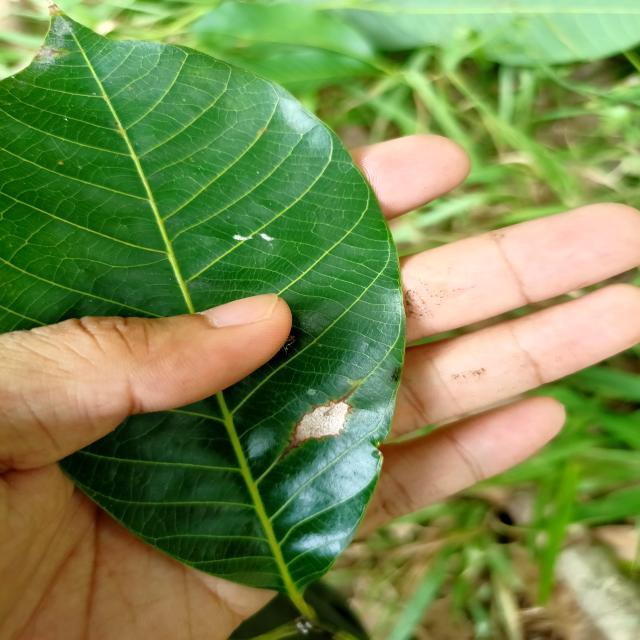Corynespora: (276, 384, 360, 461)
Leaf-Blight: (294, 402, 350, 442)
